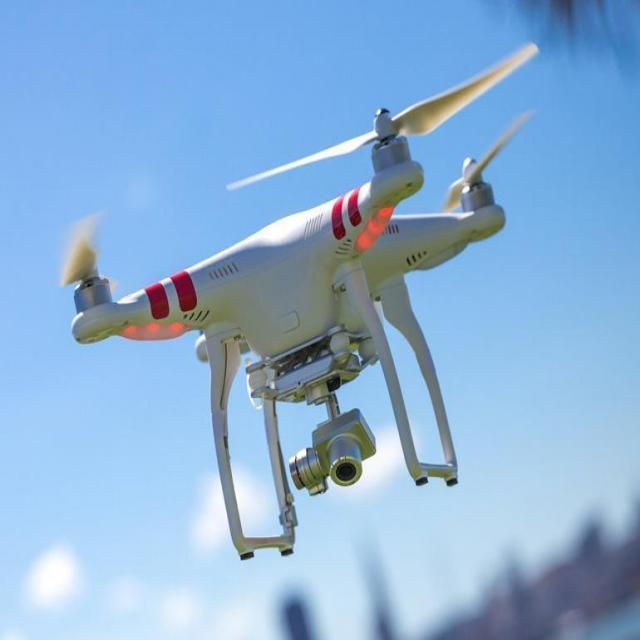UAV: (67, 100, 509, 564)
